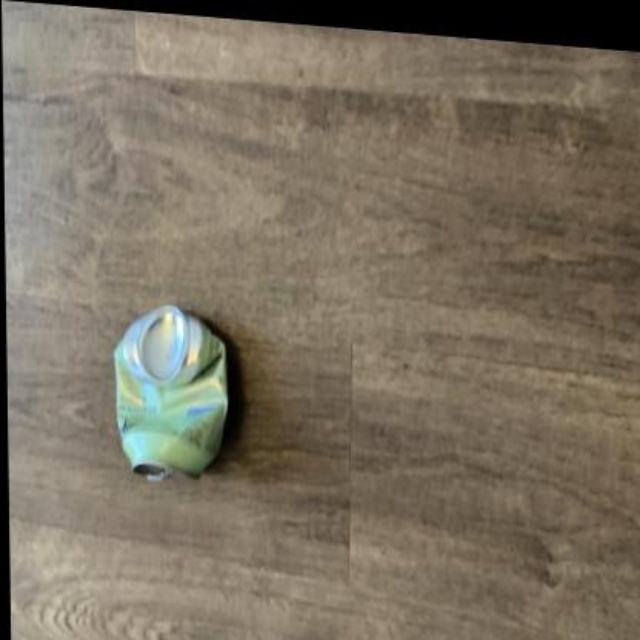trash: (114, 305, 226, 474)
